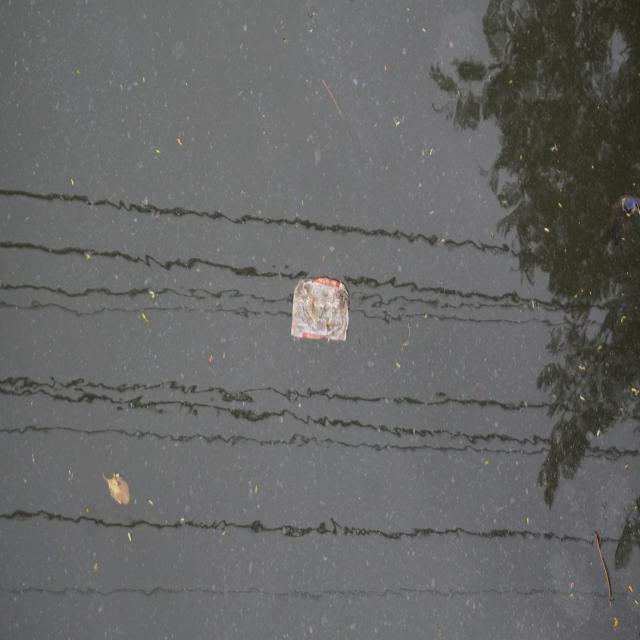Bungkus Makanan: (291, 266, 354, 350)
